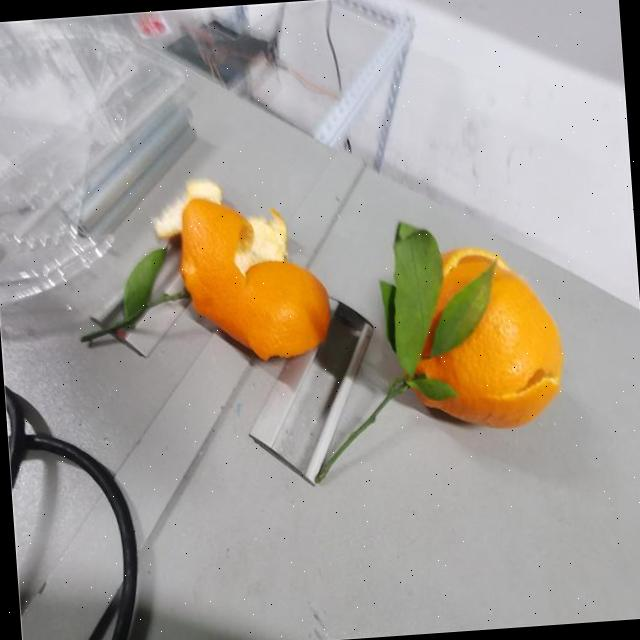orange-peel: (399, 238, 568, 434), (173, 186, 334, 366)
